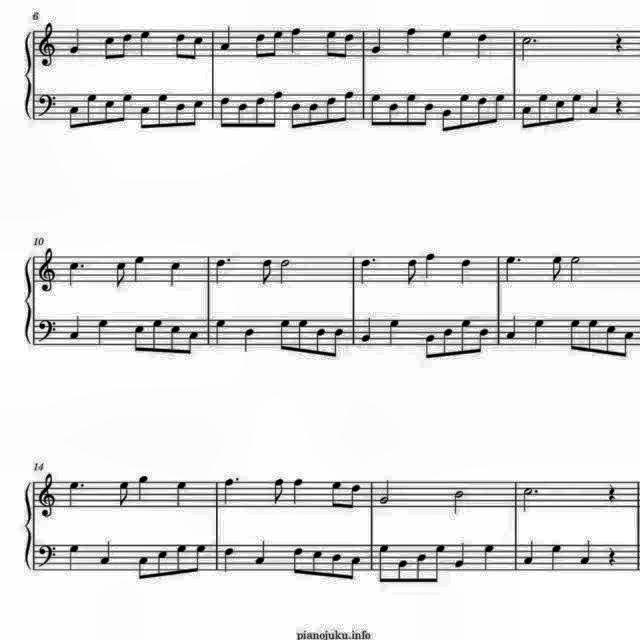Bass-clef: (36, 90, 60, 120), (36, 318, 60, 347), (35, 542, 59, 570)
Eighth-note: (375, 542, 393, 586), (270, 88, 286, 132), (548, 250, 566, 286), (294, 316, 310, 356), (148, 316, 164, 356), (156, 90, 172, 130), (458, 318, 474, 357), (586, 318, 602, 357), (288, 543, 306, 577), (321, 26, 339, 60), (252, 93, 268, 131), (404, 91, 420, 129), (456, 92, 472, 130), (85, 90, 101, 128), (276, 315, 292, 353), (566, 315, 582, 353), (268, 476, 288, 506), (414, 550, 430, 586), (474, 92, 490, 128), (602, 322, 618, 358), (341, 88, 357, 124), (366, 90, 382, 126), (130, 324, 148, 356), (534, 90, 550, 126), (216, 94, 232, 130), (111, 260, 129, 292), (434, 542, 450, 578), (174, 542, 190, 576), (322, 92, 338, 126), (168, 323, 184, 357), (118, 91, 134, 125), (492, 91, 508, 125), (346, 553, 364, 583), (346, 481, 364, 511), (404, 257, 422, 287), (568, 92, 584, 125), (172, 28, 188, 61), (115, 478, 132, 509), (310, 547, 326, 579), (156, 546, 172, 578), (440, 326, 456, 358), (288, 98, 304, 130), (66, 102, 82, 134), (622, 330, 638, 362), (328, 478, 344, 510), (341, 30, 357, 62), (332, 324, 348, 356), (192, 540, 208, 572), (270, 26, 286, 58), (252, 29, 268, 60), (118, 30, 134, 61), (312, 326, 328, 356), (100, 31, 116, 61), (476, 325, 492, 355), (188, 33, 204, 63), (422, 331, 438, 361), (260, 257, 276, 287), (552, 96, 568, 125), (420, 100, 436, 128), (190, 97, 204, 129), (172, 102, 188, 130), (440, 105, 456, 133), (306, 100, 322, 128), (102, 98, 118, 126), (394, 557, 410, 585), (136, 554, 152, 582), (330, 550, 344, 580), (138, 102, 152, 132), (186, 329, 200, 358), (236, 102, 250, 130), (386, 100, 400, 128), (520, 104, 534, 132)
Half-dot: (520, 34, 542, 66), (519, 483, 541, 512)
Half-note: (377, 477, 395, 507), (450, 487, 468, 515), (566, 253, 582, 284), (278, 258, 294, 286)
Quarter-dot: (212, 250, 238, 288), (357, 251, 379, 289), (64, 478, 88, 510), (64, 258, 88, 290), (218, 474, 242, 506), (502, 250, 522, 286)
Quarter-note: (422, 248, 440, 286), (438, 26, 458, 58), (402, 22, 422, 54), (472, 29, 492, 60), (167, 258, 186, 290), (287, 24, 305, 56), (367, 25, 385, 57), (532, 316, 550, 348), (98, 538, 116, 568), (217, 23, 235, 53), (251, 538, 269, 568), (173, 479, 191, 509), (288, 477, 306, 507), (385, 316, 403, 346), (548, 543, 566, 573), (131, 254, 149, 284), (134, 475, 152, 505), (68, 25, 84, 57), (96, 316, 112, 348), (482, 542, 498, 574), (66, 542, 82, 574), (212, 316, 228, 348), (220, 545, 237, 575), (241, 324, 259, 352), (456, 258, 474, 286), (68, 315, 84, 345), (452, 541, 468, 571), (138, 28, 154, 58), (358, 315, 374, 345), (587, 89, 603, 118), (578, 540, 594, 568), (503, 314, 519, 342), (522, 539, 538, 567)
Quarter-rest: (612, 26, 628, 54), (603, 480, 619, 504), (612, 94, 628, 118), (604, 544, 618, 568)
Treble-clef: (36, 246, 60, 294), (36, 472, 59, 520), (34, 20, 56, 68)
